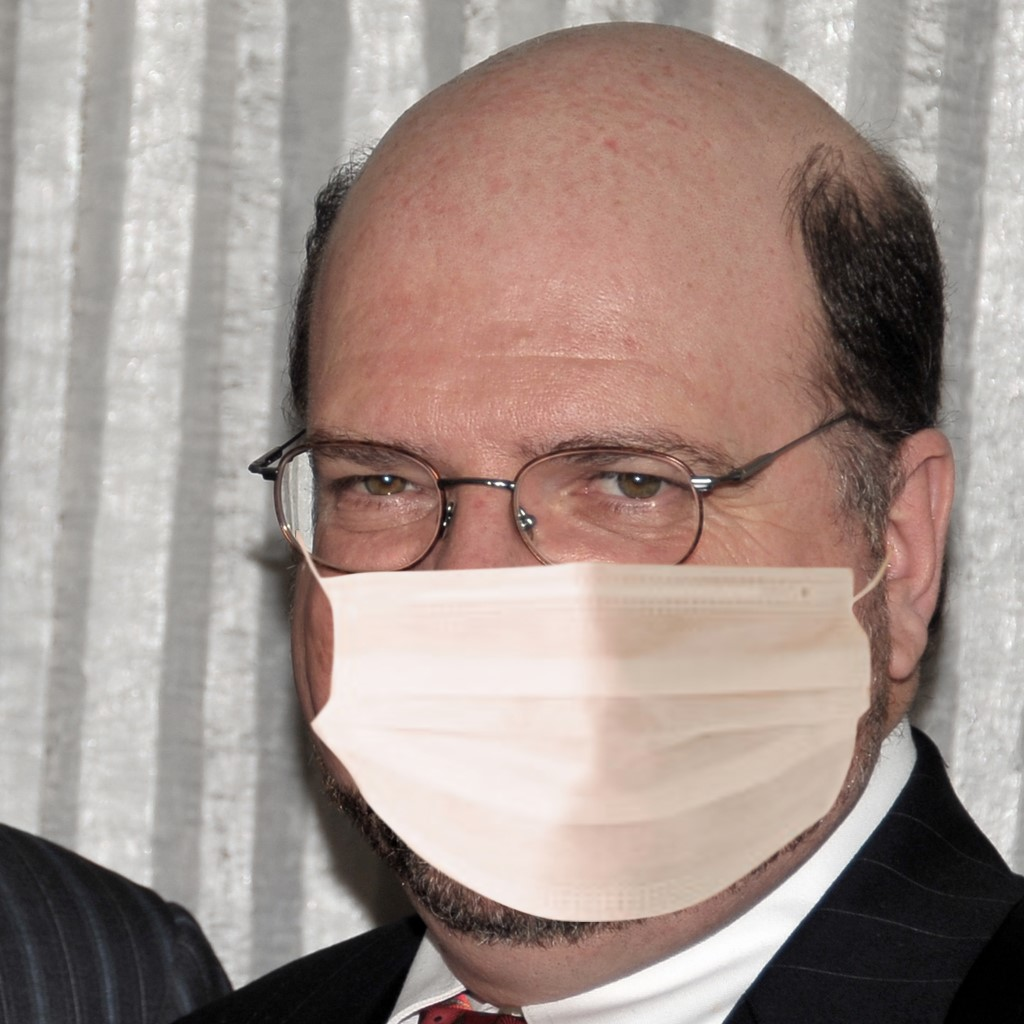con_mascara: (276, 71, 959, 957)
